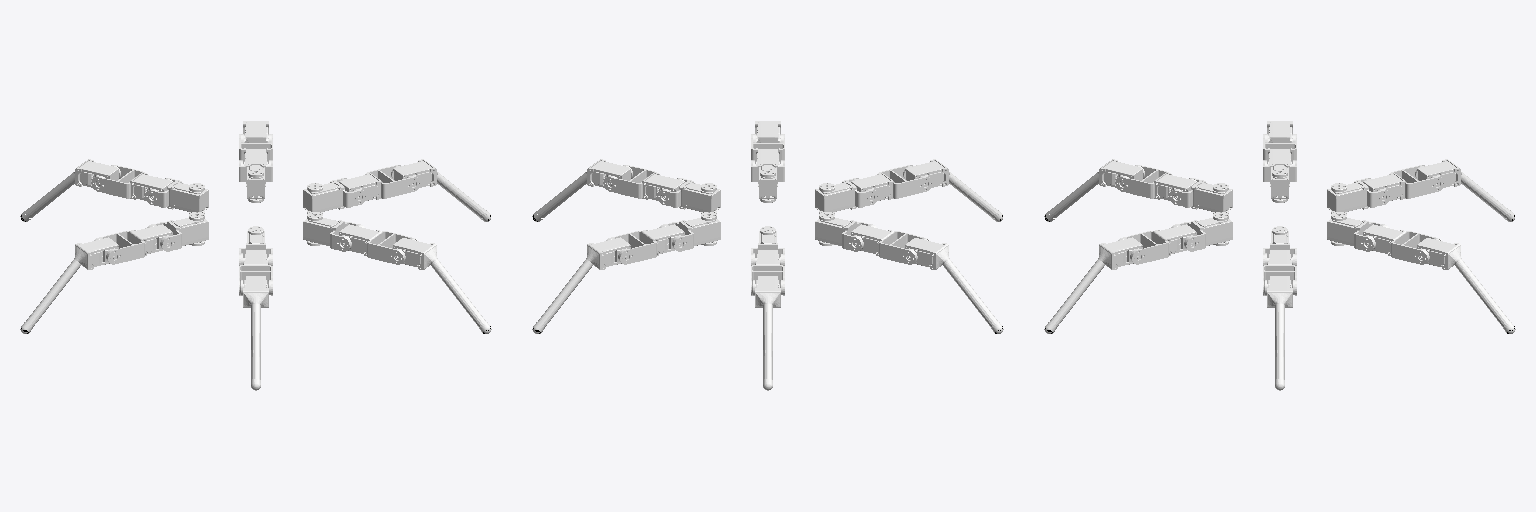
robot.urdf — hexapod_robot:
<?xml version="1.0" encoding="utf-8"?>
<robot name="hexapod_robot">
  <material name="white"><color rgba="1 1 1 1"/></material>
  <material name="foot_black"><color rgba="0.02 0.02 0.02 1"/></material>
  <link name="base_link">
    <inertial>
      <origin xyz="0.00048381 0.0032191 0.050559" rpy="0 0 0"/>
      <mass value="3"/>
      <inertia ixx="0.00045119" ixy="1.4679E-06" ixz="-1.2424E-07" iyy="0.00050737" iyz="-7.1838E-07" izz="0.00089983"/>
    </inertial>
    <visual>
      <origin xyz="0 0 0" rpy="0 0 0"/>
      <geometry>
        <mesh filename="../meshes/body_link.STL"/>
      </geometry>
      <material name="white">
        <color rgba="1 1 1 1"/>
      </material>
    </visual>
    <collision>
      <!-- Body collision: regular-hexagon outer circumcircle approximation.
           Hexagon perimeter = 0.733 m, side length = circumradius = 0.1221667 m.
           Height = 0.121 m; origin z=0.0605 assumes base_link z=0 is the body bottom plane. -->
      <origin xyz="0 0 0.0605" rpy="0 0 0"/>
      <geometry>
        <cylinder radius="0.097" length="0.121"/>
      </geometry>
    </collision>
  </link>
  <link name="lf_thigh_link">
    <inertial>
      <origin xyz="0.019013 0.00032996 0.00086404" rpy="0 0 0"/>
      <mass value="0.071"/>
      <inertia ixx="2.5711E-06" ixy="1.9851E-08" ixz="-8.344E-08" iyy="2.9345E-06" iyz="-5.4072E-09" izz="4.3664E-06"/>
    </inertial>
    <visual>
      <origin xyz="0 0 0" rpy="0 0 0"/>
      <geometry>
        <mesh filename="../meshes/thigh_link.STL"/>
      </geometry>
      <material name="white">
        <color rgba="1 1 1 1"/>
      </material>
    </visual>
    <collision>
      <origin xyz="0.02618 0 0" rpy="0 0 0"/>
      <geometry>
        <box size="0.05236 0.025 0.025"/>
      </geometry>
    </collision>
  </link>
  <joint name="lf_thigh_joint" type="revolute">
    <origin xyz="-0.0425 0.07361 0.02525" rpy="0 0 2.0944"/>
    <parent link="base_link"/>
    <child link="lf_thigh_link"/>
    <axis xyz="0 0 -1"/>
    <limit lower="-1.571" upper="1.047065850398866" effort="1.2" velocity="4.0"/>
    <dynamics damping="0.02" friction="0"/>
  </joint>
  <link name="lf_knee_link">
    <inertial>
      <origin xyz="0.024 0.00029496 0.00084694" rpy="0 0 0"/>
      <mass value="0.079"/>
      <inertia ixx="3.459E-06" ixy="1.9852E-08" ixz="-8.344E-08" iyy="6.155E-06" iyz="-5.407E-09" izz="4.8098E-06"/>
    </inertial>
    <visual>
      <origin xyz="0 0 0" rpy="0 0 0"/>
      <geometry>
        <mesh filename="../meshes/knee_link.STL"/>
      </geometry>
      <material name="white">
        <color rgba="1 1 1 1"/>
      </material>
    </visual>
    <collision>
      <origin xyz="0.038725 0 0.000125" rpy="0 0 0"/>
      <geometry>
        <box size="0.07745 0.022 0.022"/>
      </geometry>
    </collision>
  </link>
  <joint name="lf_knee_joint" type="revolute">
    <origin xyz="0.05236 0 0" rpy="1.5708 0 0"/>
    <parent link="lf_thigh_link"/>
    <child link="lf_knee_link"/>
    <axis xyz="0 0 -1"/>
    <limit lower="-2.094" upper="2.094" effort="1.2" velocity="4.0"/>
    <dynamics damping="0.02" friction="0"/>
  </joint>
  <link name="lf_ankle_link">
    <inertial>
      <origin xyz="0.037761 -0.014128 0.0005094" rpy="0 0 0"/>
      <mass value="0.092"/>
      <inertia ixx="9.9998E-06" ixy="8.2893E-06" ixz="-8.344E-08" iyy="1.1276E-05" iyz="-5.407E-09" izz="1.9753E-05"/>
    </inertial>
    <visual>
      <origin xyz="0 0 0" rpy="0 0 0"/>
      <geometry>
        <mesh filename="../meshes/ankle_link.STL"/>
      </geometry>
      <material name="white">
        <color rgba="1 1 1 1"/>
      </material>
    </visual>
    <collision>
      <origin xyz="0.05830 -0.040075 -0.000125" rpy="0 0 -0.6024"/>
      <geometry>
        <box size="0.130 0.006 0.006"/>
      </geometry>
    </collision>
  </link>
  <joint name="lf_ankle_joint" type="revolute">
    <origin xyz="0.07745 0 0.00025" rpy="0 0 0"/>
    <parent link="lf_knee_link"/>
    <child link="lf_ankle_link"/>
    <axis xyz="0 0 -1"/>
    <limit lower="-2.094" upper="2.094" effort="1.2" velocity="4.0"/>
    <dynamics damping="0.02" friction="0"/>
  </joint>
  <link name="lf_foot_link">
    <inertial>
      <origin xyz="0 0 0" rpy="0 0 0"/>
      <mass value="0.005"/>
      <inertia ixx="2.0E-07" ixy="0" ixz="0" iyy="2.0E-07" iyz="0" izz="2.0E-07"/>
    </inertial>
    <visual>
      <origin xyz="0 0 0" rpy="0 0 0"/>
      <geometry>
        <sphere radius="0.0065"/>
      </geometry>
      <material name="foot_black"/>
    </visual>
    <collision>
      <origin xyz="0 0 0" rpy="0 0 0"/>
      <geometry>
        <sphere radius="0.0065"/>
      </geometry>
    </collision>
  </link>
  <joint name="lf_foot_fixed" type="fixed">
    <origin xyz="0.11660 -0.08015 -0.00025" rpy="0 0 0"/>
    <parent link="lf_ankle_link"/>
    <child link="lf_foot_link"/>
  </joint>
  <link name="lm_thigh_link">
    <inertial>
      <origin xyz="0.019013 0.00032996 0.00086404" rpy="0 0 0"/>
      <mass value="0.071"/>
      <inertia ixx="2.5711E-06" ixy="1.9851E-08" ixz="-8.344E-08" iyy="2.9345E-06" iyz="-5.4072E-09" izz="4.3664E-06"/>
    </inertial>
    <visual>
      <origin xyz="0 0 0" rpy="0 0 0"/>
      <geometry>
        <mesh filename="../meshes/thigh_link.STL"/>
      </geometry>
      <material name="white">
        <color rgba="1 1 1 1"/>
      </material>
    </visual>
    <collision>
      <origin xyz="0.02618 0 0" rpy="0 0 0"/>
      <geometry>
        <box size="0.05236 0.025 0.025"/>
      </geometry>
    </collision>
  </link>
  <joint name="lm_thigh_joint" type="revolute">
    <origin xyz="-0.085 0 0.02525" rpy="0 0 -3.1416"/>
    <parent link="base_link"/>
    <child link="lm_thigh_link"/>
    <axis xyz="0 0 -1"/>
    <limit lower="-0.698" upper="0.698" effort="1.2" velocity="4.0"/>
    <dynamics damping="0.02" friction="0"/>
  </joint>
  <link name="lm_knee_link">
    <inertial>
      <origin xyz="0.024 0.00029496 0.00084694" rpy="0 0 0"/>
      <mass value="0.079"/>
      <inertia ixx="3.459E-06" ixy="1.9852E-08" ixz="-8.344E-08" iyy="6.155E-06" iyz="-5.407E-09" izz="4.8098E-06"/>
    </inertial>
    <visual>
      <origin xyz="0 0 0" rpy="0 0 0"/>
      <geometry>
        <mesh filename="../meshes/knee_link.STL"/>
      </geometry>
      <material name="white">
        <color rgba="1 1 1 1"/>
      </material>
    </visual>
    <collision>
      <origin xyz="0.038725 0 0.000125" rpy="0 0 0"/>
      <geometry>
        <box size="0.07745 0.022 0.022"/>
      </geometry>
    </collision>
  </link>
  <joint name="lm_knee_joint" type="revolute">
    <origin xyz="0.05236 0 0" rpy="1.5708 0 0"/>
    <parent link="lm_thigh_link"/>
    <child link="lm_knee_link"/>
    <axis xyz="0 0 -1"/>
    <limit lower="-2.094" upper="2.094" effort="1.2" velocity="4.0"/>
    <dynamics damping="0.02" friction="0"/>
  </joint>
  <link name="lm_ankle_link">
    <inertial>
      <origin xyz="0.037761 -0.014128 0.0005094" rpy="0 0 0"/>
      <mass value="0.092"/>
      <inertia ixx="9.9998E-06" ixy="8.2893E-06" ixz="-8.344E-08" iyy="1.1276E-05" iyz="-5.407E-09" izz="1.9753E-05"/>
    </inertial>
    <visual>
      <origin xyz="0 0 0" rpy="0 0 0"/>
      <geometry>
        <mesh filename="../meshes/ankle_link.STL"/>
      </geometry>
      <material name="white">
        <color rgba="1 1 1 1"/>
      </material>
    </visual>
    <collision>
      <origin xyz="0.05830 -0.040075 -0.000125" rpy="0 0 -0.6024"/>
      <geometry>
        <box size="0.130 0.006 0.006"/>
      </geometry>
    </collision>
  </link>
  <joint name="lm_ankle_joint" type="revolute">
    <origin xyz="0.07745 0 0.00025" rpy="0 0 0"/>
    <parent link="lm_knee_link"/>
    <child link="lm_ankle_link"/>
    <axis xyz="0 0 -1"/>
    <limit lower="-2.094" upper="2.094" effort="1.2" velocity="4.0"/>
    <dynamics damping="0.02" friction="0"/>
  </joint>
  <link name="lm_foot_link">
    <inertial>
      <origin xyz="0 0 0" rpy="0 0 0"/>
      <mass value="0.005"/>
      <inertia ixx="2.0E-07" ixy="0" ixz="0" iyy="2.0E-07" iyz="0" izz="2.0E-07"/>
    </inertial>
    <visual>
      <origin xyz="0 0 0" rpy="0 0 0"/>
      <geometry>
        <sphere radius="0.0065"/>
      </geometry>
      <material name="foot_black"/>
    </visual>
    <collision>
      <origin xyz="0 0 0" rpy="0 0 0"/>
      <geometry>
        <sphere radius="0.0065"/>
      </geometry>
    </collision>
  </link>
  <joint name="lm_foot_fixed" type="fixed">
    <origin xyz="0.11660 -0.08015 -0.00025" rpy="0 0 0"/>
    <parent link="lm_ankle_link"/>
    <child link="lm_foot_link"/>
  </joint>
  <link name="lb_thigh_link">
    <inertial>
      <origin xyz="0.019013 0.00032996 0.00086404" rpy="0 0 0"/>
      <mass value="0.071"/>
      <inertia ixx="2.5711E-06" ixy="1.9851E-08" ixz="-8.344E-08" iyy="2.9345E-06" iyz="-5.4072E-09" izz="4.3664E-06"/>
    </inertial>
    <visual>
      <origin xyz="0 0 0" rpy="0 0 0"/>
      <geometry>
        <mesh filename="../meshes/thigh_link.STL"/>
      </geometry>
      <material name="white">
        <color rgba="1 1 1 1"/>
      </material>
    </visual>
    <collision>
      <origin xyz="0.02618 0 0" rpy="0 0 0"/>
      <geometry>
        <box size="0.05236 0.025 0.025"/>
      </geometry>
    </collision>
  </link>
  <joint name="lb_thigh_joint" type="revolute">
    <origin xyz="-0.0425 -0.07361 0.02525" rpy="0 0 -2.0944"/>
    <parent link="base_link"/>
    <child link="lb_thigh_link"/>
    <axis xyz="0 0 -1"/>
    <limit lower="-1.047065850398866" upper="1.571" effort="1.2" velocity="4.0"/>
    <dynamics damping="0.02" friction="0"/>
  </joint>
  <link name="lb_knee_link">
    <inertial>
      <origin xyz="0.024 0.00029496 0.00084694" rpy="0 0 0"/>
      <mass value="0.079"/>
      <inertia ixx="3.459E-06" ixy="1.9852E-08" ixz="-8.344E-08" iyy="6.155E-06" iyz="-5.407E-09" izz="4.8098E-06"/>
    </inertial>
    <visual>
      <origin xyz="0 0 0" rpy="0 0 0"/>
      <geometry>
        <mesh filename="../meshes/knee_link.STL"/>
      </geometry>
      <material name="white">
        <color rgba="1 1 1 1"/>
      </material>
    </visual>
    <collision>
      <origin xyz="0.038725 0 0.000125" rpy="0 0 0"/>
      <geometry>
        <box size="0.07745 0.022 0.022"/>
      </geometry>
    </collision>
  </link>
  <joint name="lb_knee_joint" type="revolute">
    <origin xyz="0.05236 0 0" rpy="1.5708 0 0"/>
    <parent link="lb_thigh_link"/>
    <child link="lb_knee_link"/>
    <axis xyz="0 0 -1"/>
    <limit lower="-2.094" upper="2.094" effort="1.2" velocity="4.0"/>
    <dynamics damping="0.02" friction="0"/>
  </joint>
  <link name="lb_ankle_link">
    <inertial>
      <origin xyz="0.037761 -0.014128 0.0005094" rpy="0 0 0"/>
      <mass value="0.092"/>
      <inertia ixx="9.9998E-06" ixy="8.2893E-06" ixz="-8.344E-08" iyy="1.1276E-05" iyz="-5.407E-09" izz="1.9753E-05"/>
    </inertial>
    <visual>
      <origin xyz="0 0 0" rpy="0 0 0"/>
      <geometry>
        <mesh filename="../meshes/ankle_link.STL"/>
      </geometry>
      <material name="white">
        <color rgba="1 1 1 1"/>
      </material>
    </visual>
    <collision>
      <origin xyz="0.05830 -0.040075 -0.000125" rpy="0 0 -0.6024"/>
      <geometry>
        <box size="0.130 0.006 0.006"/>
      </geometry>
    </collision>
  </link>
  <joint name="lb_ankle_joint" type="revolute">
    <origin xyz="0.07745 0 0.00025" rpy="0 0 0"/>
    <parent link="lb_knee_link"/>
    <child link="lb_ankle_link"/>
    <axis xyz="0 0 -1"/>
    <limit lower="-2.094" upper="2.094" effort="1.2" velocity="4.0"/>
    <dynamics damping="0.02" friction="0"/>
  </joint>
  <link name="lb_foot_link">
    <inertial>
      <origin xyz="0 0 0" rpy="0 0 0"/>
      <mass value="0.005"/>
      <inertia ixx="2.0E-07" ixy="0" ixz="0" iyy="2.0E-07" iyz="0" izz="2.0E-07"/>
    </inertial>
    <visual>
      <origin xyz="0 0 0" rpy="0 0 0"/>
      <geometry>
        <sphere radius="0.0065"/>
      </geometry>
      <material name="foot_black"/>
    </visual>
    <collision>
      <origin xyz="0 0 0" rpy="0 0 0"/>
      <geometry>
        <sphere radius="0.0065"/>
      </geometry>
    </collision>
  </link>
  <joint name="lb_foot_fixed" type="fixed">
    <origin xyz="0.11660 -0.08015 -0.00025" rpy="0 0 0"/>
    <parent link="lb_ankle_link"/>
    <child link="lb_foot_link"/>
  </joint>
  <link name="rf_thigh_link">
    <inertial>
      <origin xyz="0.019013 0.00032996 0.00086404" rpy="0 0 0"/>
      <mass value="0.071"/>
      <inertia ixx="2.5711E-06" ixy="1.9851E-08" ixz="-8.344E-08" iyy="2.9345E-06" iyz="-5.4072E-09" izz="4.3664E-06"/>
    </inertial>
    <visual>
      <origin xyz="0 0 0" rpy="0 0 0"/>
      <geometry>
        <mesh filename="../meshes/thigh_link.STL"/>
      </geometry>
      <material name="white">
        <color rgba="1 1 1 1"/>
      </material>
    </visual>
    <collision>
      <origin xyz="0.02618 0 0" rpy="0 0 0"/>
      <geometry>
        <box size="0.05236 0.025 0.025"/>
      </geometry>
    </collision>
  </link>
  <joint name="rf_thigh_joint" type="revolute">
    <origin xyz="0.0425 0.07361 0.02525" rpy="0 0 1.0472"/>
    <parent link="base_link"/>
    <child link="rf_thigh_link"/>
    <axis xyz="0 0 -1"/>
    <limit lower="-1.047065850398866" upper="1.571" effort="1.2" velocity="4.0"/>
    <dynamics damping="0.02" friction="0"/>
  </joint>
  <link name="rf_knee_link">
    <inertial>
      <origin xyz="0.024 0.00029496 0.00084694" rpy="0 0 0"/>
      <mass value="0.079"/>
      <inertia ixx="3.459E-06" ixy="1.9852E-08" ixz="-8.344E-08" iyy="6.155E-06" iyz="-5.407E-09" izz="4.8098E-06"/>
    </inertial>
    <visual>
      <origin xyz="0 0 0" rpy="0 0 0"/>
      <geometry>
        <mesh filename="../meshes/knee_link.STL"/>
      </geometry>
      <material name="white">
        <color rgba="1 1 1 1"/>
      </material>
    </visual>
    <collision>
      <origin xyz="0.038725 0 0.000125" rpy="0 0 0"/>
      <geometry>
        <box size="0.07745 0.022 0.022"/>
      </geometry>
    </collision>
  </link>
  <joint name="rf_knee_joint" type="revolute">
    <origin xyz="0.05236 0 0" rpy="1.5708 0 0"/>
    <parent link="rf_thigh_link"/>
    <child link="rf_knee_link"/>
    <axis xyz="0 0 1"/>
    <limit lower="-2.094" upper="2.094" effort="1.2" velocity="4.0"/>
    <dynamics damping="0.02" friction="0"/>
  </joint>
  <link name="rf_ankle_link">
    <inertial>
      <origin xyz="0.037761 -0.014128 0.0005094" rpy="0 0 0"/>
      <mass value="0.092"/>
      <inertia ixx="9.9998E-06" ixy="8.2893E-06" ixz="-8.344E-08" iyy="1.1276E-05" iyz="-5.407E-09" izz="1.9753E-05"/>
    </inertial>
    <visual>
      <origin xyz="0 0 0" rpy="0 0 0"/>
      <geometry>
        <mesh filename="../meshes/ankle_link.STL"/>
      </geometry>
      <material name="white">
        <color rgba="1 1 1 1"/>
      </material>
    </visual>
    <collision>
      <origin xyz="0.05830 -0.040075 -0.000125" rpy="0 0 -0.6024"/>
      <geometry>
        <box size="0.130 0.006 0.006"/>
      </geometry>
    </collision>
  </link>
  <joint name="rf_ankle_joint" type="revolute">
    <origin xyz="0.07745 0 0.00025" rpy="0 0 0"/>
    <parent link="rf_knee_link"/>
    <child link="rf_ankle_link"/>
    <axis xyz="0 0 1"/>
    <limit lower="-2.094" upper="2.094" effort="1.2" velocity="4.0"/>
    <dynamics damping="0.02" friction="0"/>
  </joint>
  <link name="rf_foot_link">
    <inertial>
      <origin xyz="0 0 0" rpy="0 0 0"/>
      <mass value="0.005"/>
      <inertia ixx="2.0E-07" ixy="0" ixz="0" iyy="2.0E-07" iyz="0" izz="2.0E-07"/>
    </inertial>
    <visual>
      <origin xyz="0 0 0" rpy="0 0 0"/>
      <geometry>
        <sphere radius="0.0065"/>
      </geometry>
      <material name="foot_black"/>
    </visual>
    <collision>
      <origin xyz="0 0 0" rpy="0 0 0"/>
      <geometry>
        <sphere radius="0.0065"/>
      </geometry>
    </collision>
  </link>
  <joint name="rf_foot_fixed" type="fixed">
    <origin xyz="0.11660 -0.08015 -0.00025" rpy="0 0 0"/>
    <parent link="rf_ankle_link"/>
    <child link="rf_foot_link"/>
  </joint>
  <link name="rm_thigh_link">
    <inertial>
      <origin xyz="0.019013 0.00032996 0.00086404" rpy="0 0 0"/>
      <mass value="0.071"/>
      <inertia ixx="2.5711E-06" ixy="1.9851E-08" ixz="-8.344E-08" iyy="2.9345E-06" iyz="-5.4072E-09" izz="4.3664E-06"/>
    </inertial>
    <visual>
      <origin xyz="0 0 0" rpy="0 0 0"/>
      <geometry>
        <mesh filename="../meshes/thigh_link.STL"/>
      </geometry>
      <material name="white">
        <color rgba="1 1 1 1"/>
      </material>
    </visual>
    <collision>
      <origin xyz="0.02618 0 0" rpy="0 0 0"/>
      <geometry>
        <box size="0.05236 0.025 0.025"/>
      </geometry>
    </collision>
  </link>
  <joint name="rm_thigh_joint" type="revolute">
    <origin xyz="0.085 0 0.02525" rpy="0 0 0"/>
    <parent link="base_link"/>
    <child link="rm_thigh_link"/>
    <axis xyz="0 0 -1"/>
    <limit lower="-0.698" upper="0.698" effort="1.2" velocity="4.0"/>
    <dynamics damping="0.02" friction="0"/>
  </joint>
  <link name="rm_knee_link">
    <inertial>
      <origin xyz="0.024 0.00029496 0.00084694" rpy="0 0 0"/>
      <mass value="0.079"/>
      <inertia ixx="3.459E-06" ixy="1.9852E-08" ixz="-8.344E-08" iyy="6.155E-06" iyz="-5.407E-09" izz="4.8098E-06"/>
    </inertial>
    <visual>
      <origin xyz="0 0 0" rpy="0 0 0"/>
      <geometry>
        <mesh filename="../meshes/knee_link.STL"/>
      </geometry>
      <material name="white">
        <color rgba="1 1 1 1"/>
      </material>
    </visual>
    <collision>
      <origin xyz="0.038725 0 0.000125" rpy="0 0 0"/>
      <geometry>
        <box size="0.07745 0.022 0.022"/>
      </geometry>
    </collision>
  </link>
  <joint name="rm_knee_joint" type="revolute">
    <origin xyz="0.05236 0 0" rpy="1.5708 0 0"/>
    <parent link="rm_thigh_link"/>
    <child link="rm_knee_link"/>
    <axis xyz="0 0 1"/>
    <limit lower="-2.094" upper="2.094" effort="1.2" velocity="4.0"/>
    <dynamics damping="0.02" friction="0"/>
  </joint>
  <link name="rm_ankle_link">
    <inertial>
      <origin xyz="0.037761 -0.014128 0.0005094" rpy="0 0 0"/>
      <mass value="0.092"/>
      <inertia ixx="9.9998E-06" ixy="8.2893E-06" ixz="-8.344E-08" iyy="1.1276E-05" iyz="-5.407E-09" izz="1.9753E-05"/>
    </inertial>
    <visual>
      <origin xyz="0 0 0" rpy="0 0 0"/>
      <geometry>
        <mesh filename="../meshes/ankle_link.STL"/>
      </geometry>
      <material name="white">
        <color rgba="1 1 1 1"/>
      </material>
    </visual>
    <collision>
      <origin xyz="0.05830 -0.040075 -0.000125" rpy="0 0 -0.6024"/>
      <geometry>
        <box size="0.130 0.006 0.006"/>
      </geometry>
    </collision>
  </link>
  <joint name="rm_ankle_joint" type="revolute">
    <origin xyz="0.07745 0 0.00025" rpy="0 0 0"/>
    <parent link="rm_knee_link"/>
    <child link="rm_ankle_link"/>
    <axis xyz="0 0 1"/>
    <limit lower="-2.094" upper="2.094" effort="1.2" velocity="4.0"/>
    <dynamics damping="0.02" friction="0"/>
  </joint>
  <link name="rm_foot_link">
    <inertial>
      <origin xyz="0 0 0" rpy="0 0 0"/>
      <mass value="0.005"/>
      <inertia ixx="2.0E-07" ixy="0" ixz="0" iyy="2.0E-07" iyz="0" izz="2.0E-07"/>
    </inertial>
    <visual>
      <origin xyz="0 0 0" rpy="0 0 0"/>
      <geometry>
        <sphere radius="0.0065"/>
      </geometry>
      <material name="foot_black"/>
    </visual>
    <collision>
      <origin xyz="0 0 0" rpy="0 0 0"/>
      <geometry>
        <sphere radius="0.0065"/>
      </geometry>
    </collision>
  </link>
  <joint name="rm_foot_fixed" type="fixed">
    <origin xyz="0.11660 -0.08015 -0.00025" rpy="0 0 0"/>
    <parent link="rm_ankle_link"/>
    <child link="rm_foot_link"/>
  </joint>
  <link name="rb_thigh_link">
    <inertial>
      <origin xyz="0.019013 0.00032996 0.00086404" rpy="0 0 0"/>
      <mass value="0.071"/>
      <inertia ixx="2.5711E-06" ixy="1.9851E-08" ixz="-8.344E-08" iyy="2.9345E-06" iyz="-5.4072E-09" izz="4.3664E-06"/>
    </inertial>
    <visual>
      <origin xyz="0 0 0" rpy="0 0 0"/>
      <geometry>
        <mesh filename="../meshes/thigh_link.STL"/>
      </geometry>
      <material name="white">
        <color rgba="1 1 1 1"/>
      </material>
    </visual>
    <collision>
      <origin xyz="0.02618 0 0" rpy="0 0 0"/>
      <geometry>
        <box size="0.05236 0.025 0.025"/>
      </geometry>
    </collision>
  </link>
  <joint name="rb_thigh_joint" type="revolute">
    <origin xyz="0.0425 -0.07361 0.02525" rpy="0 0 -1.0472"/>
    <parent link="base_link"/>
    <child link="rb_thigh_link"/>
    <axis xyz="0 0 -1"/>
    <limit lower="-1.571" upper="1.047065850398866" effort="1.2" velocity="4.0"/>
    <dynamics damping="0.02" friction="0"/>
  </joint>
  <link name="rb_knee_link">
    <inertial>
      <origin xyz="0.024 0.00029496 0.00084694" rpy="0 0 0"/>
      <mass value="0.079"/>
      <inertia ixx="3.459E-06" ixy="1.9852E-08" ixz="-8.344E-08" iyy="6.155E-06" iyz="-5.407E-09" izz="4.8098E-06"/>
    </inertial>
    <visual>
      <origin xyz="0 0 0" rpy="0 0 0"/>
      <geometry>
        <mesh filename="../meshes/knee_link.STL"/>
      </geometry>
      <material name="white">
        <color rgba="1 1 1 1"/>
      </material>
    </visual>
    <collision>
      <origin xyz="0.038725 0 0.000125" rpy="0 0 0"/>
      <geometry>
        <box size="0.07745 0.022 0.022"/>
      </geometry>
    </collision>
  </link>
  <joint name="rb_knee_joint" type="revolute">
    <origin xyz="0.05236 0 0" rpy="1.5708 0 0"/>
    <parent link="rb_thigh_link"/>
    <child link="rb_knee_link"/>
    <axis xyz="0 0 1"/>
    <limit lower="-2.094" upper="2.094" effort="1.2" velocity="4.0"/>
    <dynamics damping="0.02" friction="0"/>
  </joint>
  <link name="rb_ankle_link">
    <inertial>
      <origin xyz="0.037761 -0.014128 0.0005094" rpy="0 0 0"/>
      <mass value="0.092"/>
      <inertia ixx="9.9998E-06" ixy="8.2893E-06" ixz="-8.344E-08" iyy="1.1276E-05" iyz="-5.407E-09" izz="1.9753E-05"/>
    </inertial>
    <visual>
      <origin xyz="0 0 0" rpy="0 0 0"/>
      <geometry>
        <mesh filename="../meshes/ankle_link.STL"/>
      </geometry>
      <material name="white">
        <color rgba="1 1 1 1"/>
      </material>
    </visual>
    <collision>
      <origin xyz="0.05830 -0.040075 -0.000125" rpy="0 0 -0.6024"/>
      <geometry>
        <box size="0.130 0.006 0.006"/>
      </geometry>
    </collision>
  </link>
  <joint name="rb_ankle_joint" type="revolute">
    <origin xyz="0.07745 0 0.00025" rpy="0 0 0"/>
    <parent link="rb_knee_link"/>
    <child link="rb_ankle_link"/>
    <axis xyz="0 0 1"/>
    <limit lower="-2.094" upper="2.094" effort="1.2" velocity="4.0"/>
    <dynamics damping="0.02" friction="0"/>
  </joint>
  <link name="rb_foot_link">
    <inertial>
      <origin xyz="0 0 0" rpy="0 0 0"/>
      <mass value="0.005"/>
      <inertia ixx="2.0E-07" ixy="0" ixz="0" iyy="2.0E-07" iyz="0" izz="2.0E-07"/>
    </inertial>
    <visual>
      <origin xyz="0 0 0" rpy="0 0 0"/>
      <geometry>
        <sphere radius="0.0065"/>
      </geometry>
      <material name="foot_black"/>
    </visual>
    <collision>
      <origin xyz="0 0 0" rpy="0 0 0"/>
      <geometry>
        <sphere radius="0.0065"/>
      </geometry>
    </collision>
  </link>
  <joint name="rb_foot_fixed" type="fixed">
    <origin xyz="0.11660 -0.08015 -0.00025" rpy="0 0 0"/>
    <parent link="rb_ankle_link"/>
    <child link="rb_foot_link"/>
  </joint>
</robot>

--- Facts derived from the render (not from the file) ---
Views: 3 orthographic renders of the robot side by side, from view 1: azimuth 30°, elevation 25°; view 2: azimuth 150°, elevation 25°; view 3: azimuth 270°, elevation 25°.
Robot: hexapod_robot — 25 links, 24 joints (18 revolute, 6 fixed); root link base_link; default pose: all joints at 0.
Links seen in each view (by area): view 1: rb_ankle_link, lm_ankle_link, lb_ankle_link, rb_knee_link, lm_knee_link, lf_knee_link, rm_knee_link, lf_ankle_link, rm_ankle_link, rm_thigh_link, lf_thigh_link, lm_thigh_link (+6 smaller); view 2: lm_ankle_link, rf_ankle_link, lf_ankle_link, lm_knee_link, rf_knee_link, rm_knee_link, lb_knee_link, rm_ankle_link, lb_ankle_link, lb_thigh_link, rm_thigh_link, lm_thigh_link (+6 smaller); view 3: rf_ankle_link, rb_ankle_link, rm_ankle_link, rf_knee_link, rb_knee_link, lb_knee_link, lf_knee_link, lb_ankle_link, lf_ankle_link, lf_thigh_link, lb_thigh_link, rf_thigh_link (+6 smaller).
Link boxes in pixels (<box>): rb_ankle_link: <box>392,238,491,333</box>; lm_ankle_link: <box>20,237,118,333</box>; lb_ankle_link: <box>240,276,270,390</box>; rb_knee_link: <box>339,224,417,264</box>; lm_knee_link: <box>94,224,172,264</box>; lf_knee_link: <box>91,165,172,200</box>; rm_knee_link: <box>339,165,420,200</box>; lf_ankle_link: <box>20,159,120,221</box>; rm_ankle_link: <box>391,159,490,221</box>; rm_thigh_link: <box>303,178,366,213</box>; lf_thigh_link: <box>145,178,208,213</box>; lm_thigh_link: <box>147,212,208,251</box>; lm_ankle_link: <box>904,238,1003,333</box>; rf_ankle_link: <box>532,237,630,333</box>; lf_ankle_link: <box>752,276,782,390</box>; lm_knee_link: <box>851,224,929,264</box>; rf_knee_link: <box>606,224,684,264</box>; rm_knee_link: <box>603,165,684,200</box>; lb_knee_link: <box>851,165,932,200</box>; rm_ankle_link: <box>532,159,632,221</box>; lb_ankle_link: <box>903,159,1002,221</box>; lb_thigh_link: <box>815,178,878,213</box>; rm_thigh_link: <box>657,178,720,213</box>; lm_thigh_link: <box>815,212,876,251</box>; rf_ankle_link: <box>1416,238,1515,333</box>; rb_ankle_link: <box>1044,237,1142,333</box>; rm_ankle_link: <box>1264,276,1294,390</box>; rf_knee_link: <box>1363,224,1441,264</box>; rb_knee_link: <box>1118,224,1196,264</box>; lb_knee_link: <box>1115,165,1196,200</box>; lf_knee_link: <box>1363,165,1444,200</box>; lb_ankle_link: <box>1044,159,1144,221</box>; lf_ankle_link: <box>1415,159,1514,221</box>; lf_thigh_link: <box>1327,178,1390,213</box>; lb_thigh_link: <box>1169,178,1232,213</box>; rf_thigh_link: <box>1327,212,1388,251</box>.
Bounding box of the posed robot: 0.6758 × 0.587 × 0.1059 m (x, y, z).
Meshes: 4 distinct files referenced, 18 mesh visuals loaded (3 binary STL); not drawn: 1 (reference not matched to a file when rendering).
